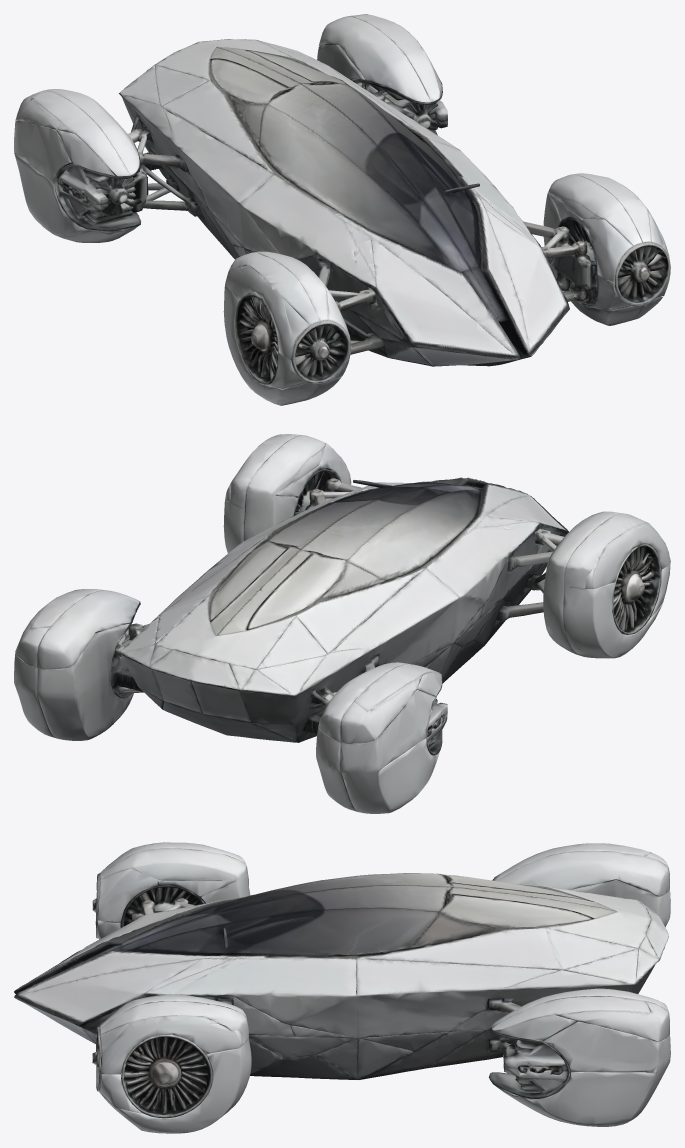
The model's file is AEROVANE-V4.glb.
3 views of the same model, one above another, from view 1: azimuth 30°, elevation 25°; view 2: azimuth 150°, elevation 25°; view 3: azimuth 270°, elevation 25° (orthographic). The views are drawn at different scales.
Visible parts, largest first — view 1: tripo_node_b9ef8fe3-70cb-4bed-a83d-136b09aa0613; view 2: tripo_node_b9ef8fe3-70cb-4bed-a83d-136b09aa0613; view 3: tripo_node_b9ef8fe3-70cb-4bed-a83d-136b09aa0613.
Part boxes in pixels (<box>): tripo_node_b9ef8fe3-70cb-4bed-a83d-136b09aa0613: <box>14,14,670,405</box>; tripo_node_b9ef8fe3-70cb-4bed-a83d-136b09aa0613: <box>14,434,670,813</box>; tripo_node_b9ef8fe3-70cb-4bed-a83d-136b09aa0613: <box>14,842,670,1133</box>.
Size of the model in its own units: 0.6522 by 0.2677 by 0.9791.
1 material, 1 textured.
